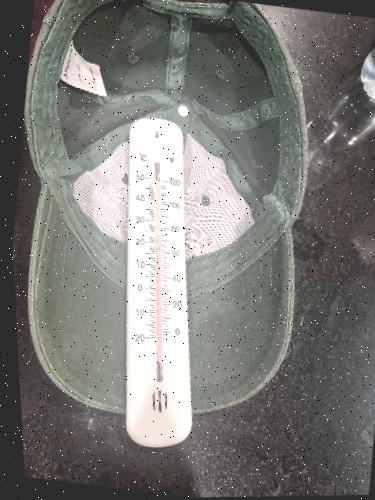thermo: (124, 121, 193, 440)
